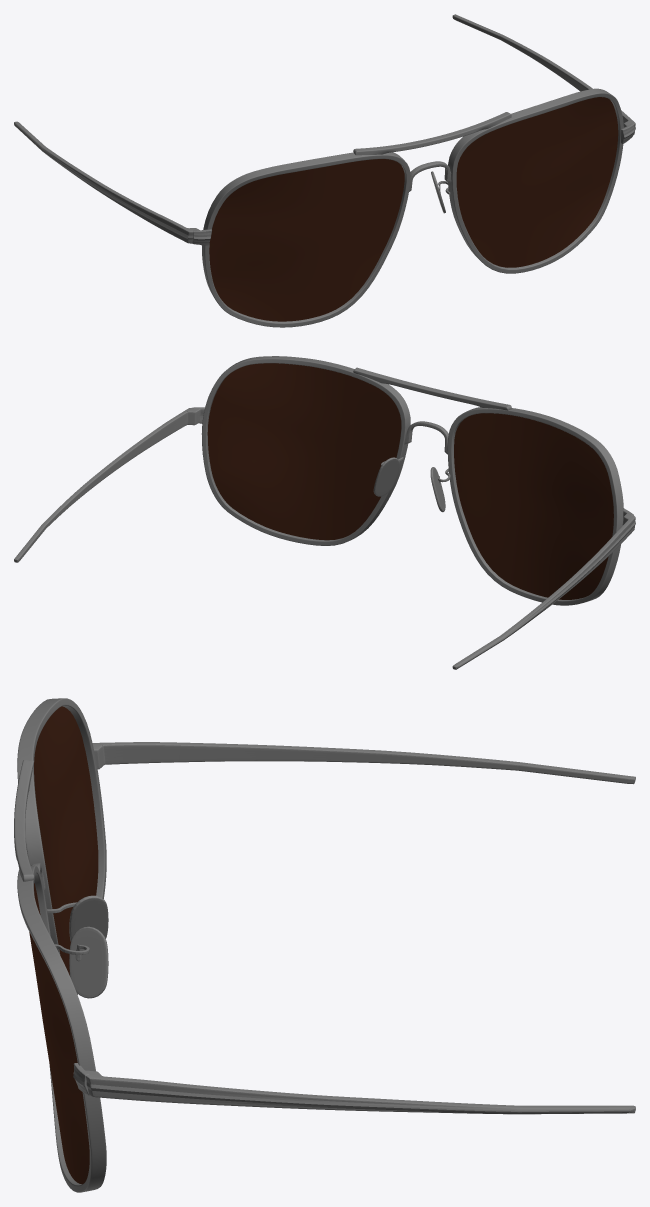
Rendered from Chromance_mat.glb.
3 renders of one model, top to bottom at view 1: azimuth 30°, elevation 25°; view 2: azimuth 150°, elevation 25°; view 3: azimuth 270°, elevation 25°, orthographic. The views are drawn at different scales.
Visible parts, largest first — view 1: Lentes, armacao; view 2: Lentes, armacao, Pontes; view 3: armacao, Lentes, Pontes.
Boxes of the visible parts, x1,y1,x2,y2 form: Lentes: (209,97,618,321); armacao: (14,14,635,327); Lentes: (207,363,613,599); armacao: (14,356,635,669); Pontes: (373,457,445,512); armacao: (14,698,635,1192); Lentes: (29,706,98,1184); Pontes: (69,895,108,998).
Size of the model in its own units: 0.1573 by 0.0556 by 0.1173.
